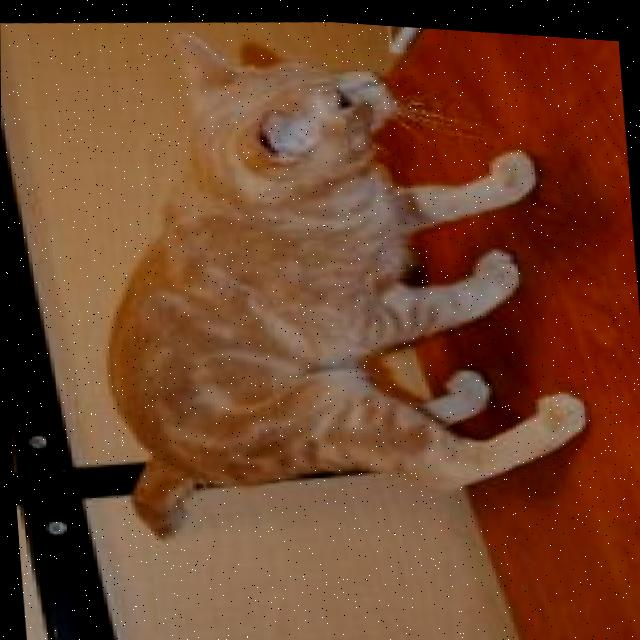American Bobtail: (70, 4, 600, 568)
